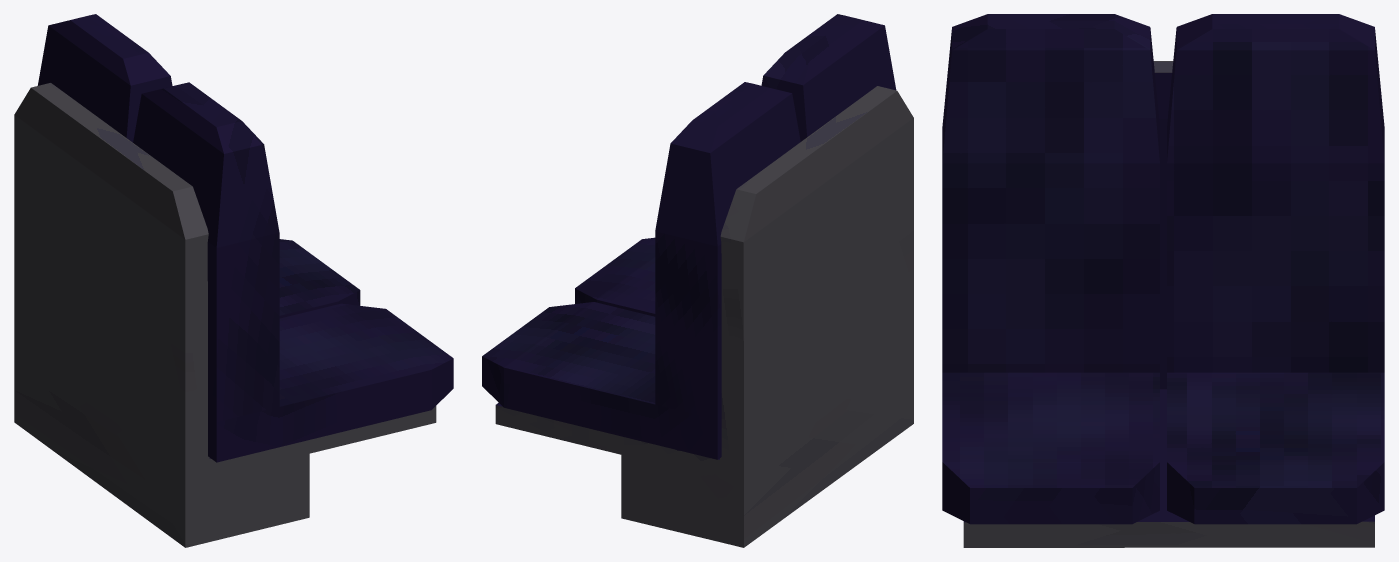
File: Chairs_02.fbx
The picture shows the model from 3 angles, left to right: view 1: azimuth 30°, elevation 25°; view 2: azimuth 150°, elevation 25°; view 3: azimuth 270°, elevation 25°; orthographic projection. The views are drawn at different scales.
Parts seen in each view (by area): view 1: Chairs; view 2: Chairs; view 3: Chairs.
Boxes of the visible parts, left/top/right/bottom form: Chairs: left=14, top=14, right=453, bottom=547; Chairs: left=482, top=14, right=913, bottom=547; Chairs: left=942, top=14, right=1384, bottom=547.
Bounding box in the file's own units: 78.35 × 111 × 92.04.
